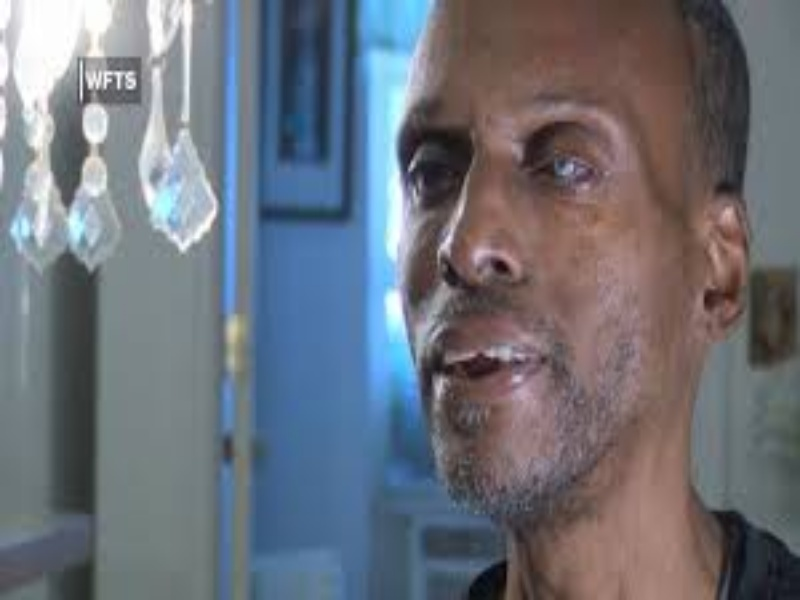face: (397, 100, 638, 428)
